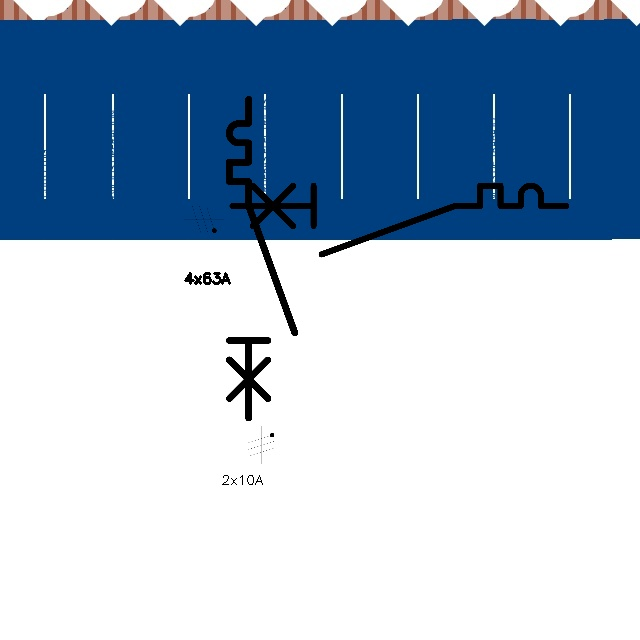interruptor_termomagnetico: (223, 177, 574, 263), (221, 91, 303, 426)
